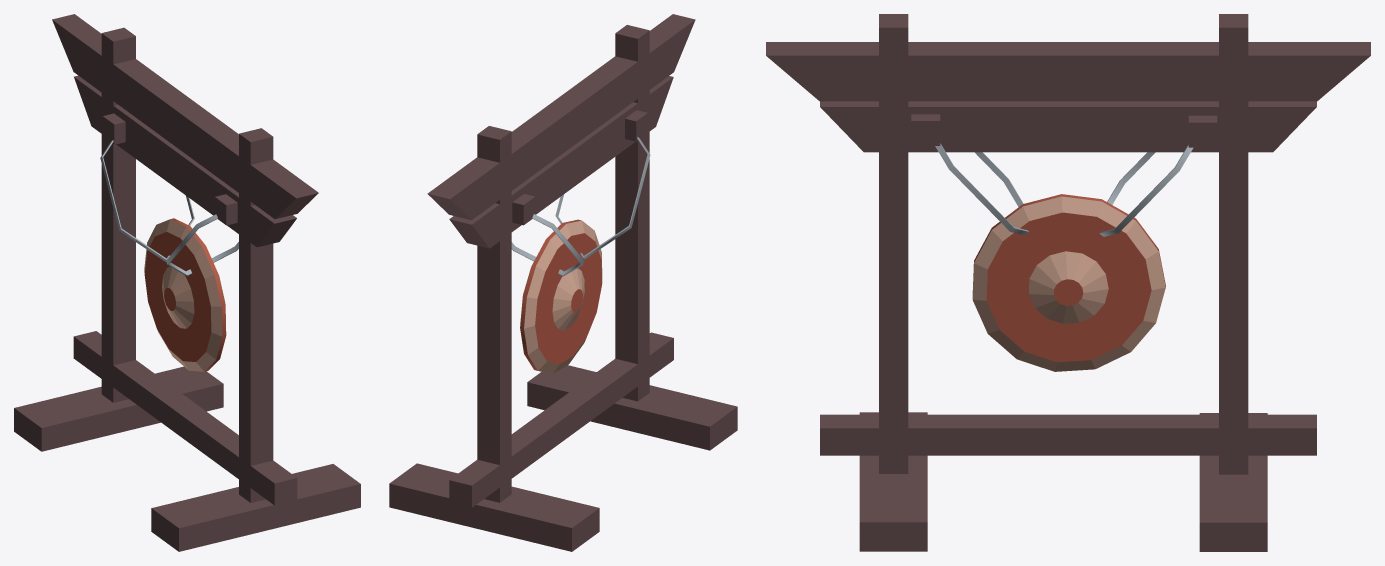
Rendered from Gong.FBX.
The picture shows the model from 3 angles, left to right: view 1: azimuth 30°, elevation 25°; view 2: azimuth 150°, elevation 25°; view 3: azimuth 270°, elevation 25°; orthographic projection. The views are drawn at different scales.
Visible parts, largest first — view 1: Gong; view 2: Gong; view 3: Gong.
Part boxes in pixels (left/top/right/bottom): Gong: left=14, top=14, right=360, bottom=551; Gong: left=389, top=14, right=737, bottom=551; Gong: left=766, top=14, right=1370, bottom=551.
Size of the model in its own units: 13.31 by 26.92 by 30.99.
Materials: 1 (1 with a texture image).
